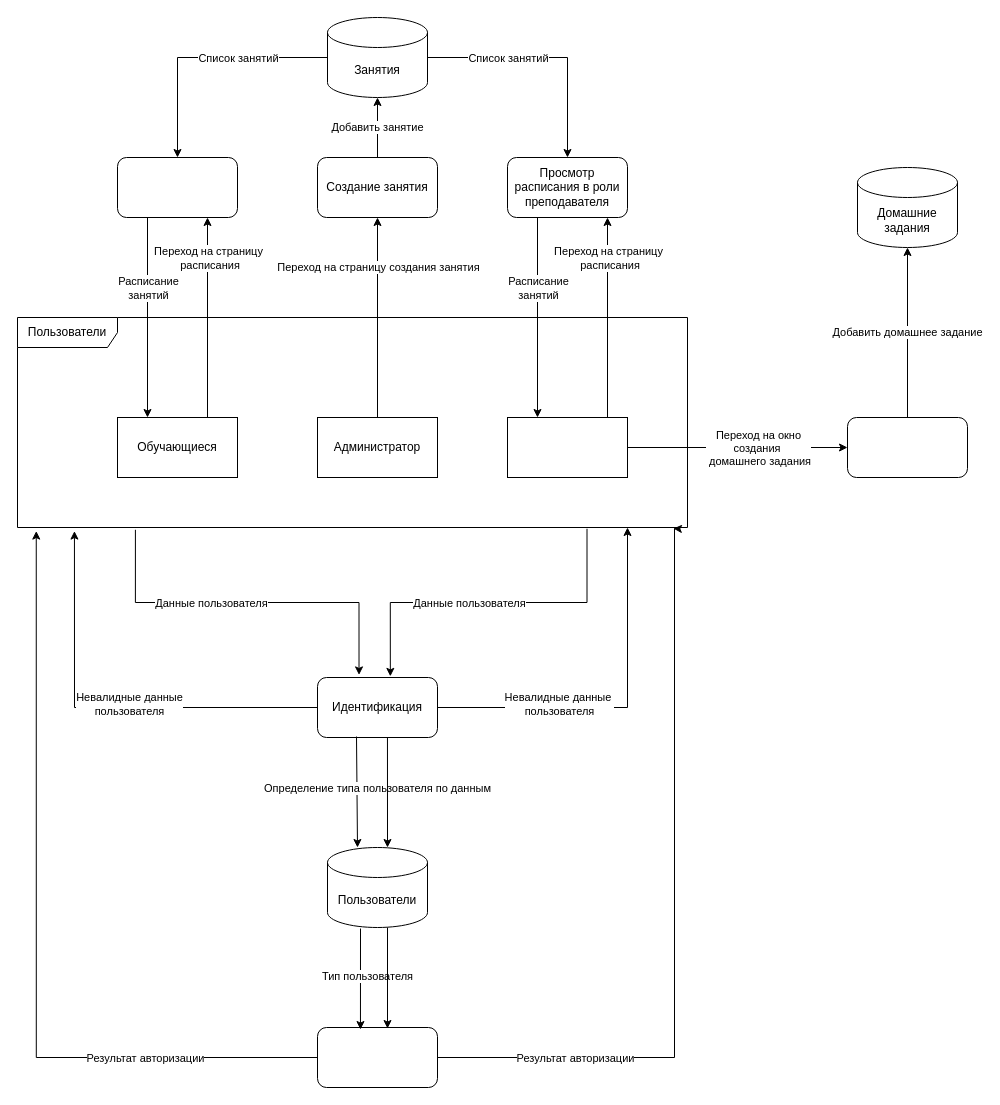
This 1000x1105 diagram has some shape labels left out. The shapes that lost their labels are listed below. From the top down, each one's centre as x and y in pixels, then its label:
the point at 177,187: Просмотр расписания занятий в роли обручающегося
the point at 567,447: Преподаватель
the point at 907,447: Создание домашнего задания
the point at 377,1057: Авторизация
